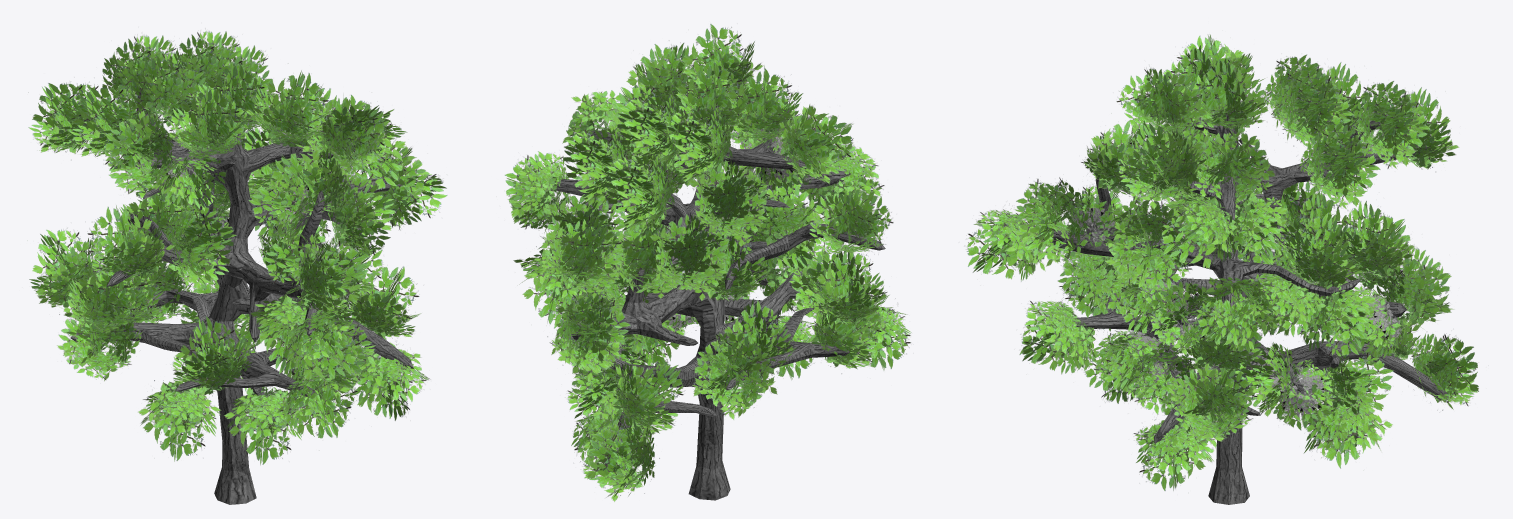
3 views of the same model, side by side, from view 1: azimuth 30°, elevation 25°; view 2: azimuth 150°, elevation 25°; view 3: azimuth 270°, elevation 25° (orthographic).
Parts seen in each view (by area): view 1: Elder Tree Leaves.001_0, Elder Tree_1; view 2: Elder Tree Leaves.001_0, Elder Tree_1; view 3: Elder Tree Leaves.001_0, Elder Tree_1.
Part boxes in pixels (x1=…): Elder Tree Leaves.001_0: x1=27, y1=28, x2=447, y2=465; Elder Tree_1: x1=70, y1=87, x2=413, y2=504; Elder Tree Leaves.001_0: x1=505, y1=24, x2=911, y2=501; Elder Tree_1: x1=551, y1=105, x2=885, y2=500; Elder Tree Leaves.001_0: x1=964, y1=34, x2=1478, y2=490; Elder Tree_1: x1=1004, y1=107, x2=1448, y2=504.
Size of the model in its own units: 5.65 by 6.02 by 6.63.
Materials: 5 (5 with a texture image).
